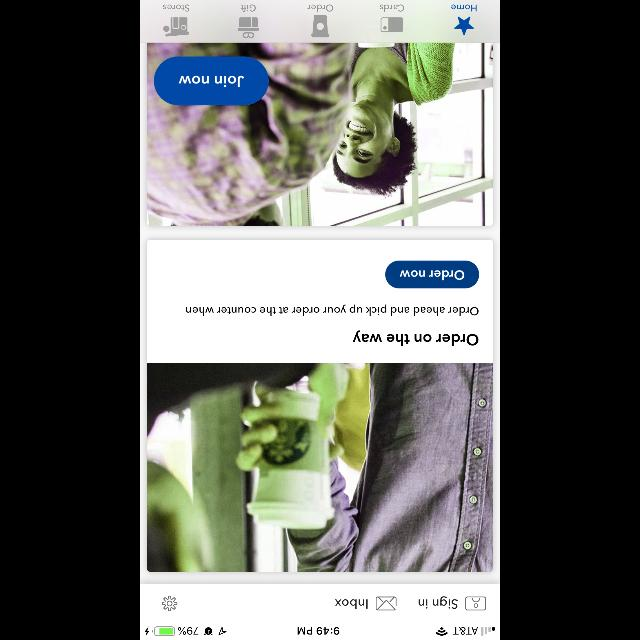icon: (238, 17, 258, 38), (454, 16, 474, 36), (381, 18, 404, 32), (464, 596, 486, 610), (376, 596, 396, 610), (162, 596, 178, 610)
image: (147, 363, 493, 571), (147, 42, 493, 226), (163, 18, 189, 36), (311, 15, 329, 38)
text: (186, 304, 478, 316), (353, 330, 479, 346), (418, 596, 458, 608), (334, 599, 368, 609), (380, 4, 404, 12), (163, 5, 189, 12), (307, 5, 333, 12), (451, 5, 477, 12), (240, 5, 256, 12)
textbutton: (154, 56, 268, 106), (385, 260, 479, 288)
uppertaskbar: (140, 626, 500, 640)
